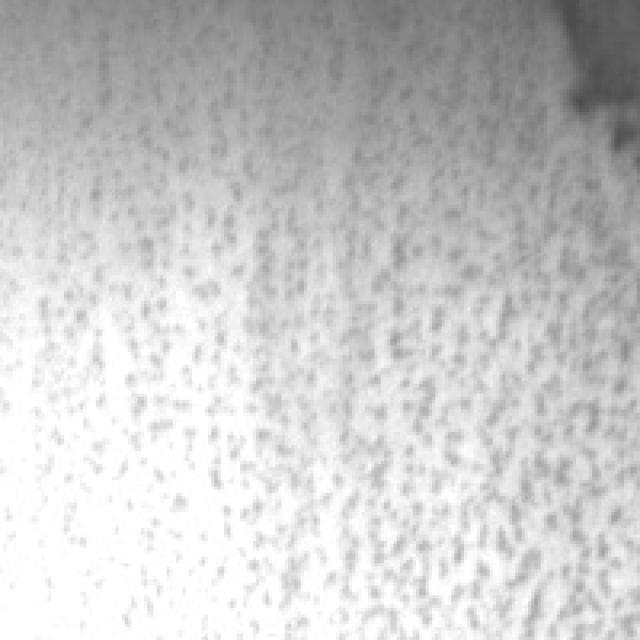patches: (553, 0, 636, 150)
pitted_surface: (41, 25, 598, 630)
